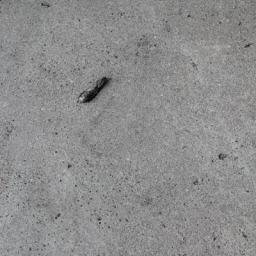FOD: (75, 71, 115, 108)
